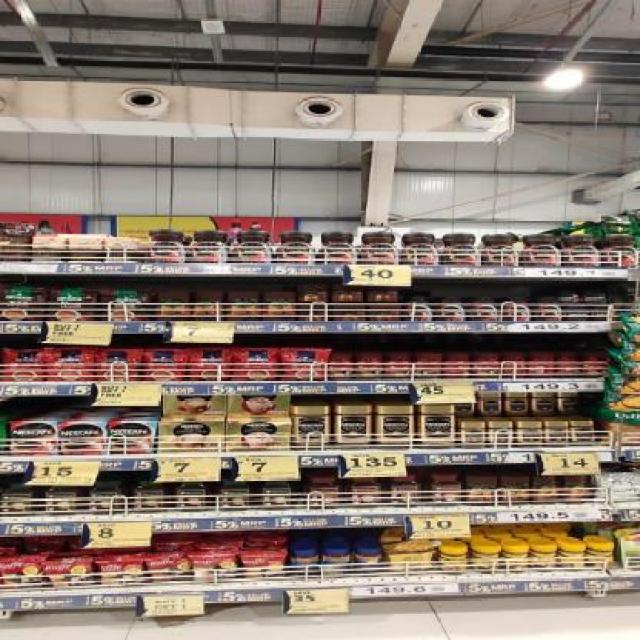Coffee: (417, 406, 461, 448), (332, 406, 374, 448), (10, 421, 58, 457), (60, 422, 107, 456), (377, 406, 415, 448), (109, 421, 156, 454), (293, 406, 327, 448), (146, 230, 186, 262), (190, 230, 226, 262), (278, 232, 314, 264), (602, 235, 636, 268), (235, 232, 271, 263), (319, 232, 355, 263), (525, 235, 561, 266), (361, 233, 397, 263), (405, 234, 441, 264), (566, 234, 599, 266), (485, 234, 519, 265), (445, 233, 478, 264), (531, 296, 562, 320), (468, 296, 498, 320), (403, 295, 432, 319), (437, 296, 465, 320), (499, 297, 527, 321), (569, 421, 595, 445), (544, 421, 568, 447), (489, 422, 513, 446), (516, 423, 540, 447), (461, 424, 485, 448), (475, 394, 501, 415), (530, 393, 554, 415), (504, 393, 528, 415), (558, 392, 580, 414), (586, 307, 614, 320), (563, 308, 587, 320), (581, 292, 609, 302), (559, 293, 580, 302)
